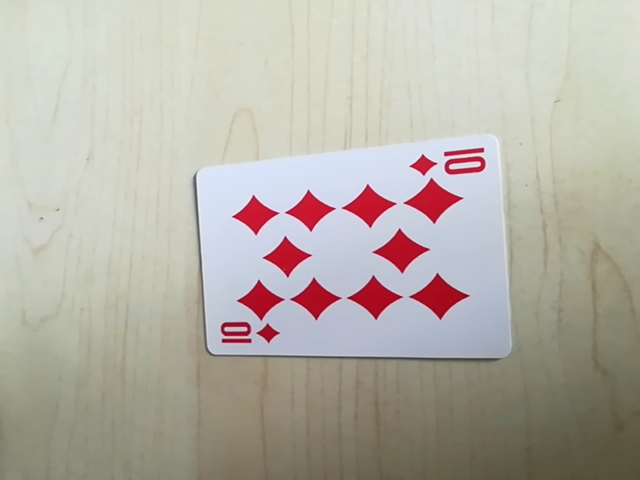fk 10: (410, 142, 494, 182), (211, 319, 282, 353)
